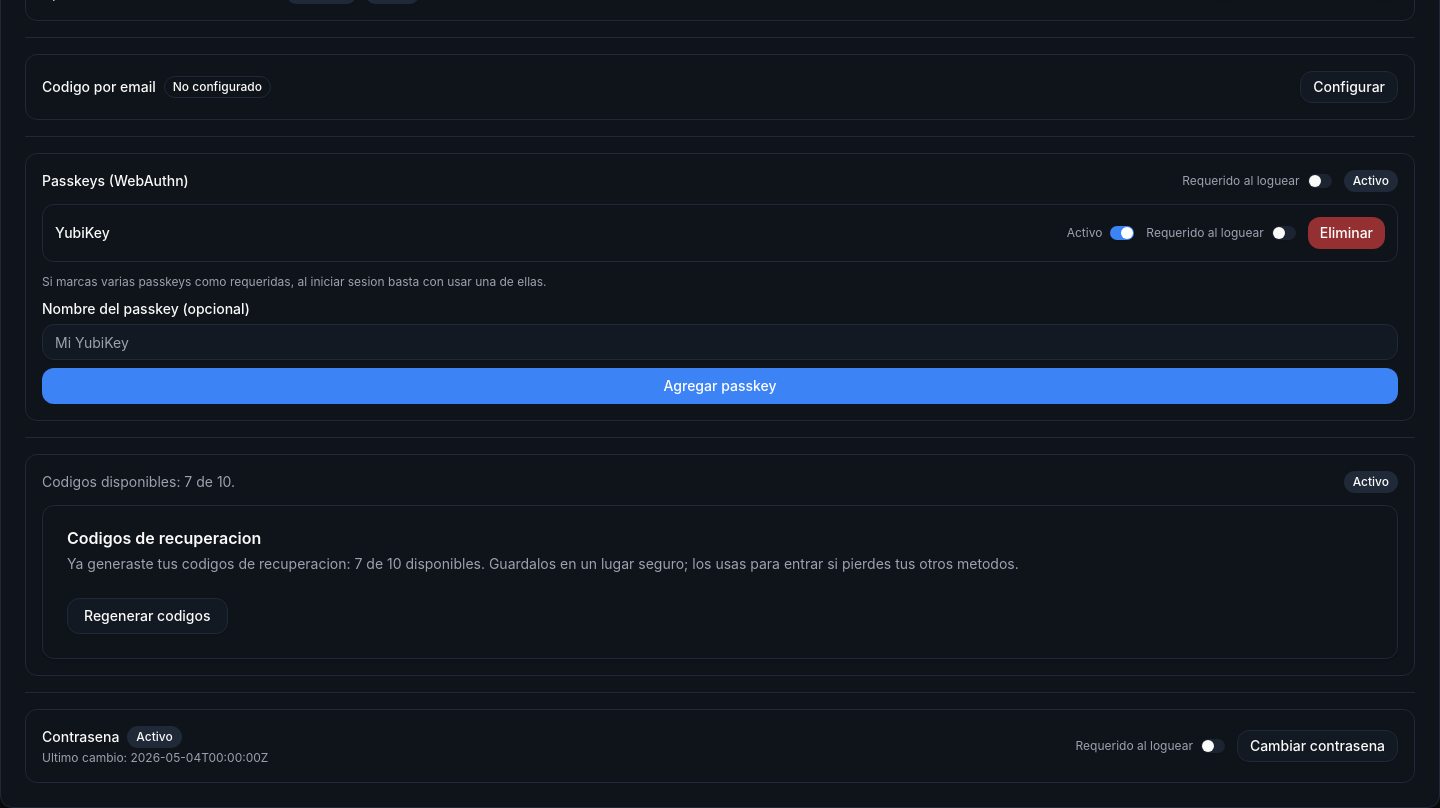
Scenario: SecurityOverviewPanel › Given password configured When clic Cambiar contrasena Then abre el dialog
The image size is (1440, 808).
(page scrolled)
Click the button "Cambiar contrasena". click: (1317, 746)
box: [1237, 730, 1398, 762]
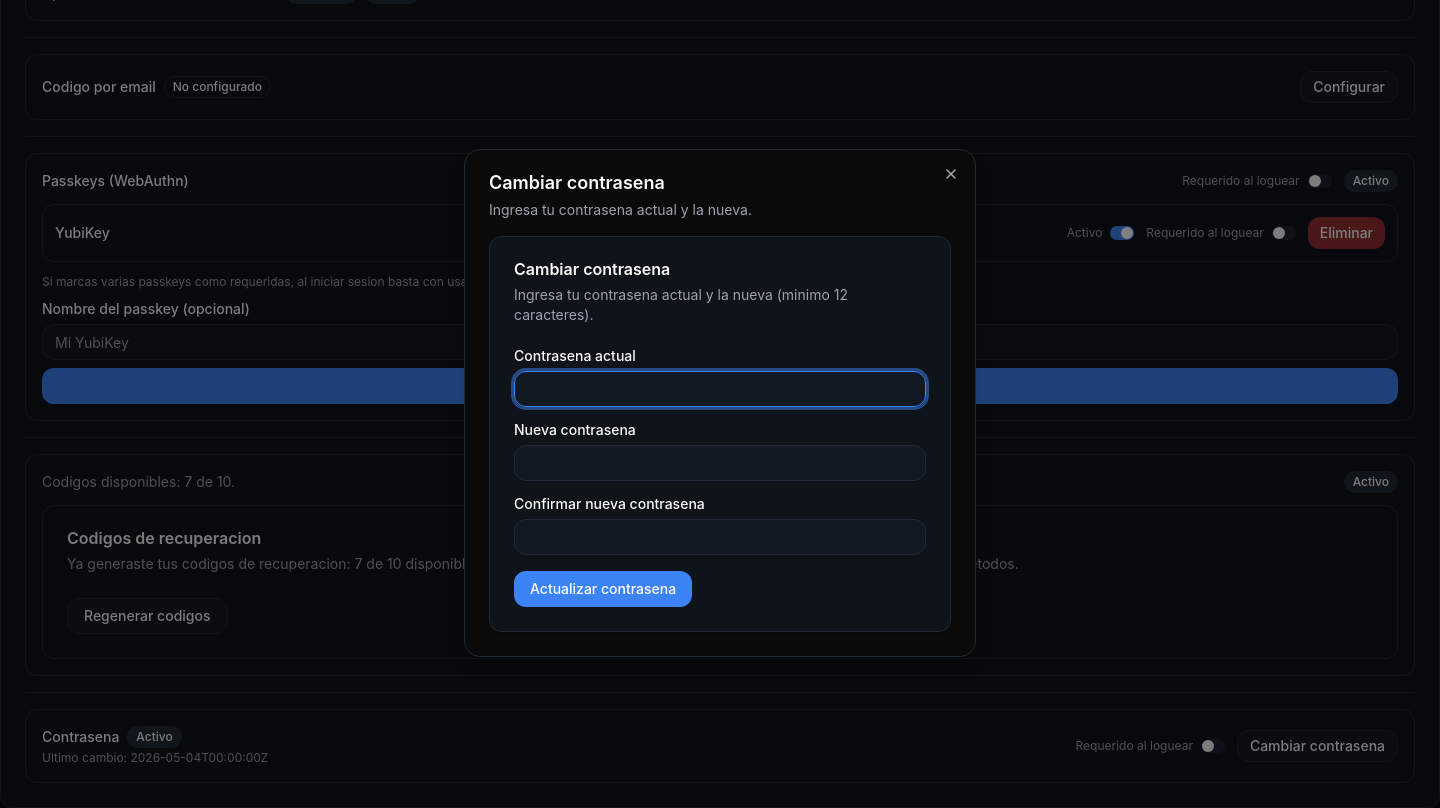
Expected: the heading "Cambiar contrasena" is shown, [489, 172, 665, 193]
